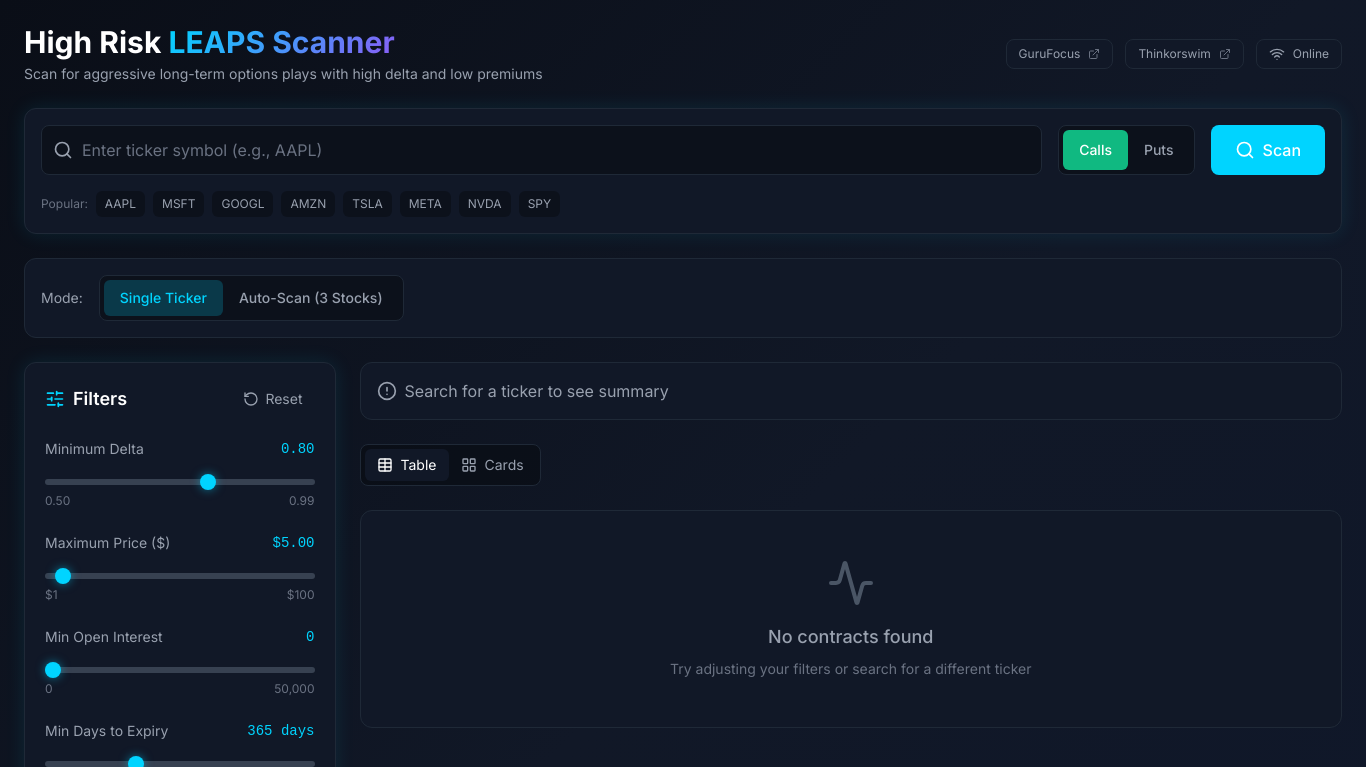
Test case: OptionScanner Integration › Error Handling › should display error message when API fails
Type "INVALID" into the field with placeholder "Enter ticker symbol (e.g., AAPL)".
click(542, 150); type("INVALID")  # box [41, 125, 1042, 175]
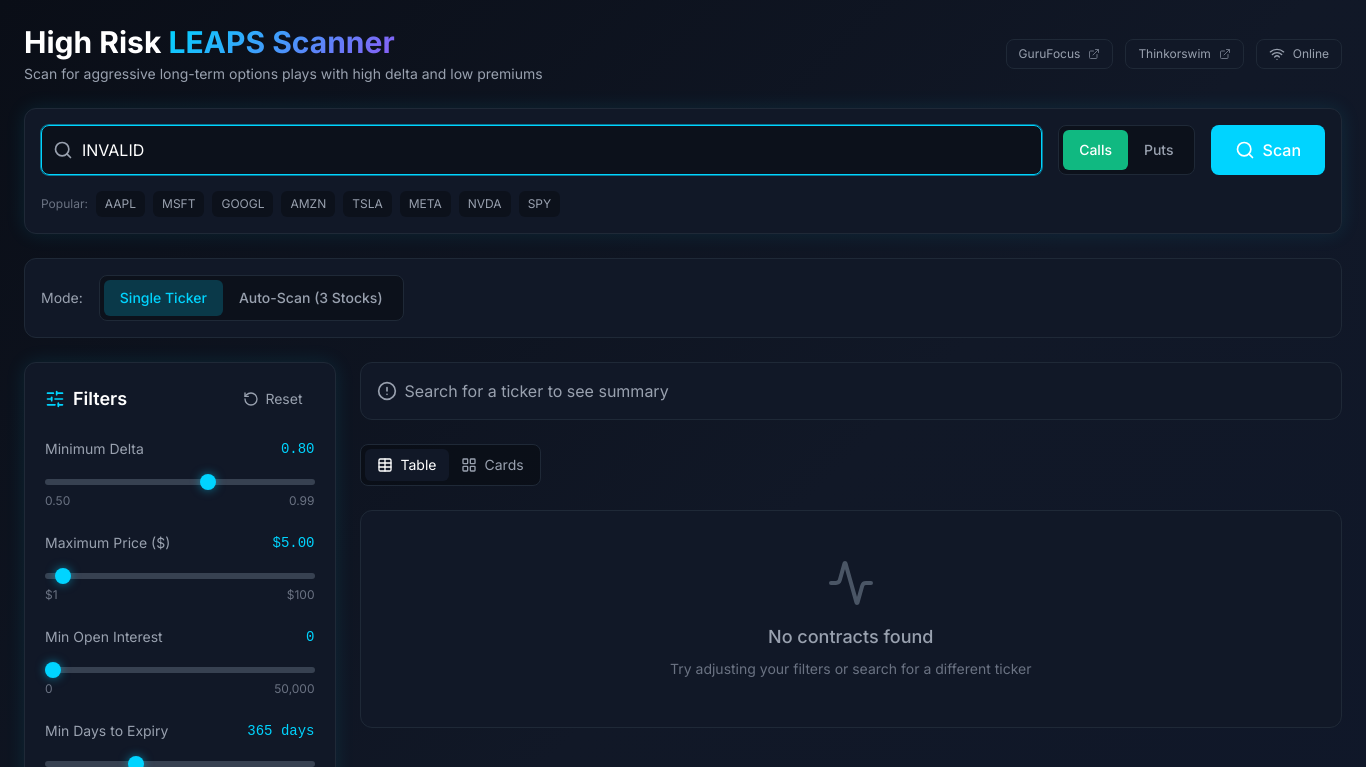
Click the button "Scan".
click(1268, 150)  # box [1211, 125, 1325, 175]
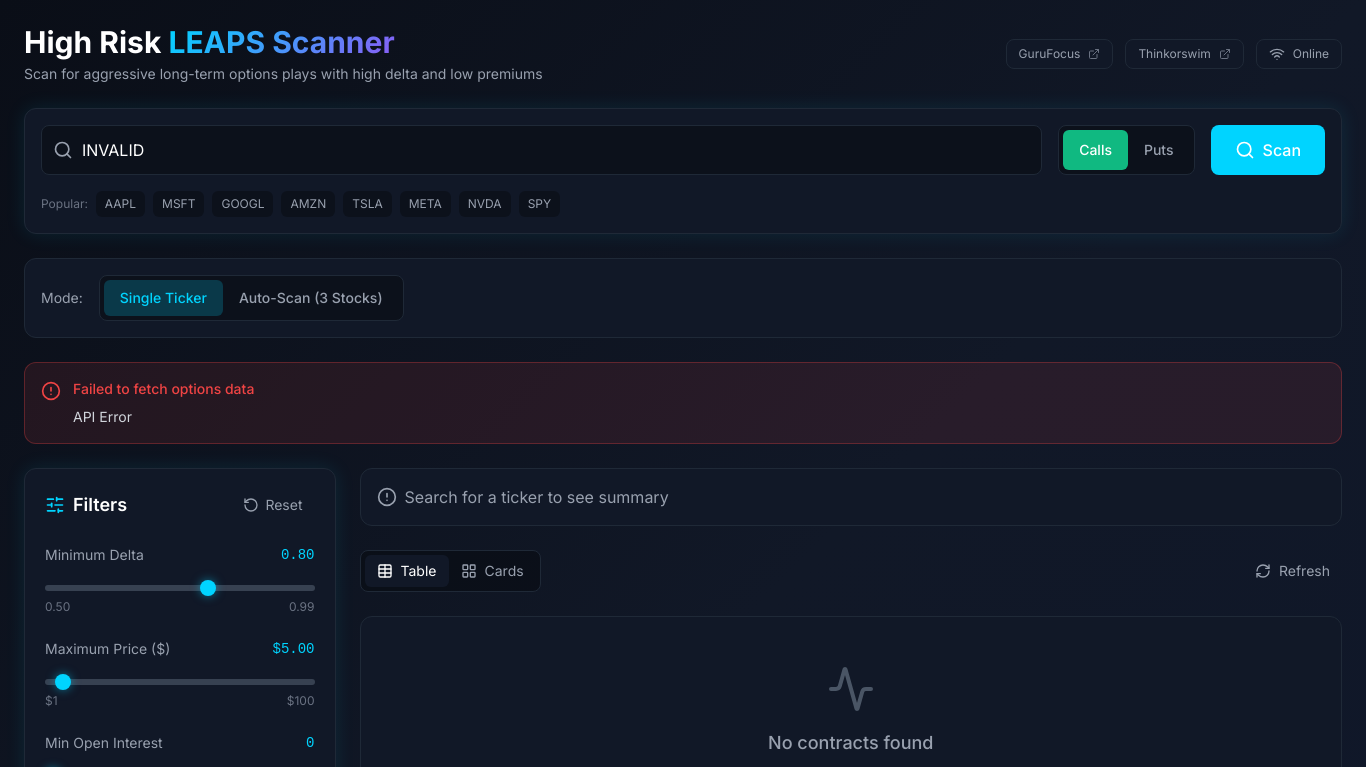
Now the text "API Error" is shown, box [73, 408, 132, 425]
